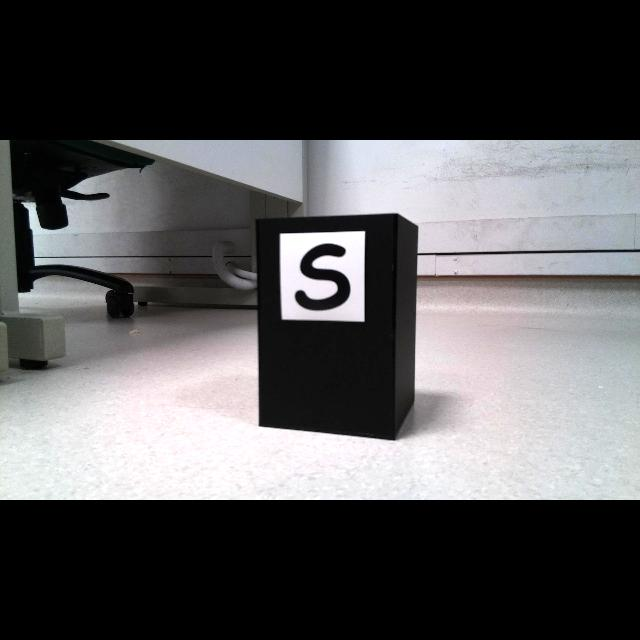S: (292, 245, 349, 314)
